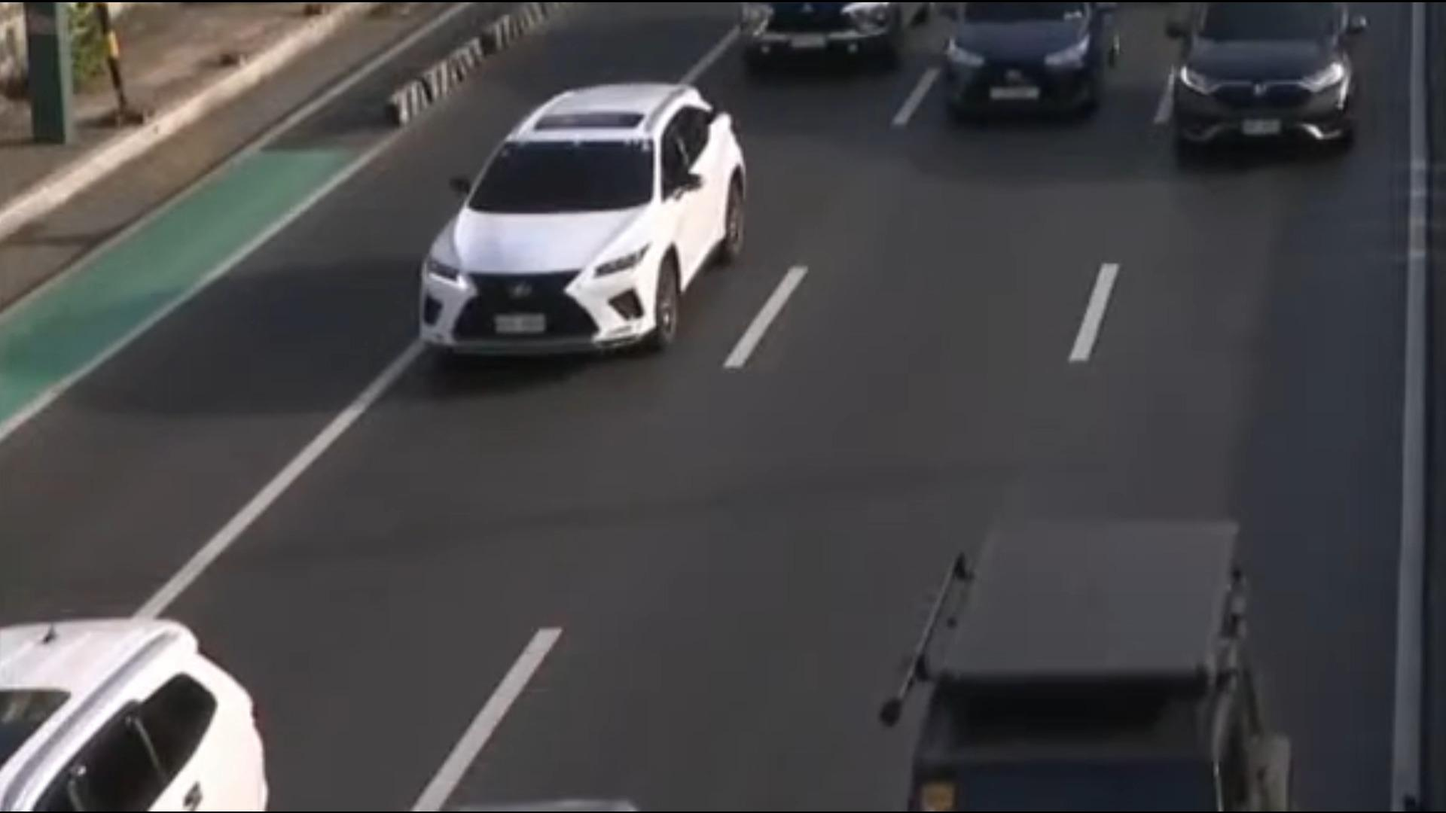SUV: (412, 85, 747, 361), (0, 617, 267, 813)
